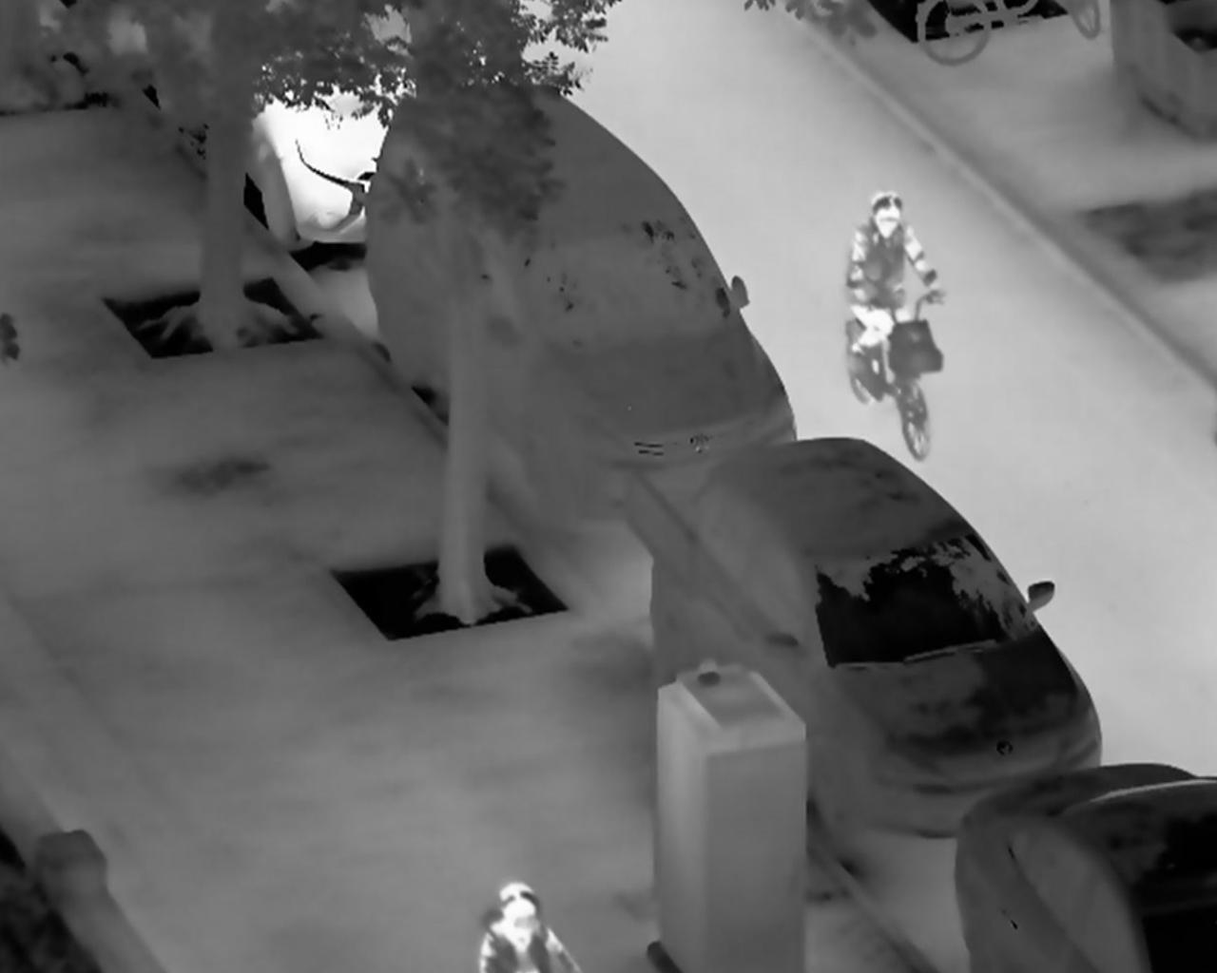person: (842, 188, 949, 394)
